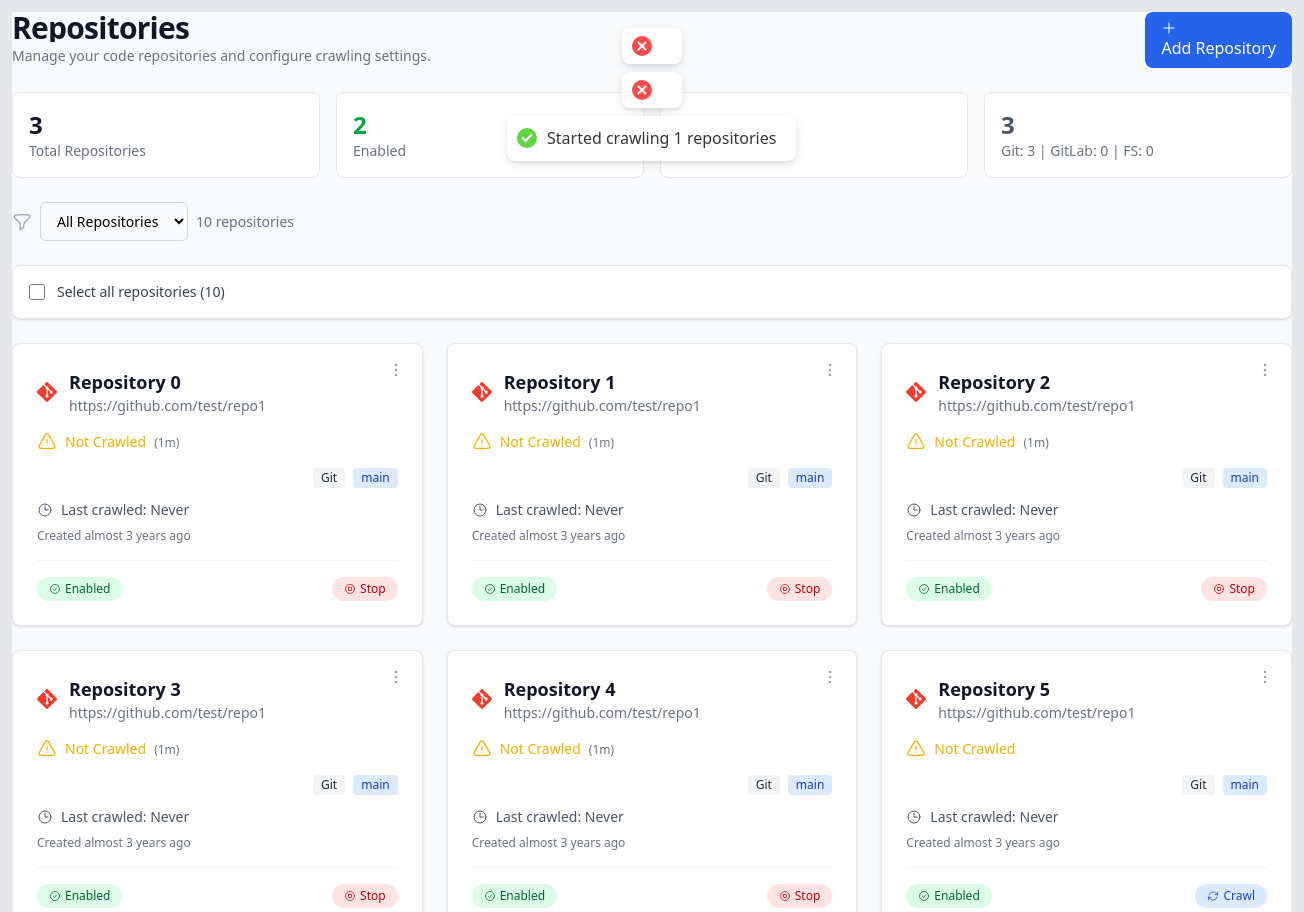
Scenario: RepositoriesPage - Crawl Prevention › Performance and Edge Cases › should handle large numbers of repositories efficiently
Expected: the heading "Repository 0" is shown, [69,370,181,394]
Note: Test that bulk crawl functionality works with multiple repositories
Click the checkbox at (37,292), box [29,284,45,300]
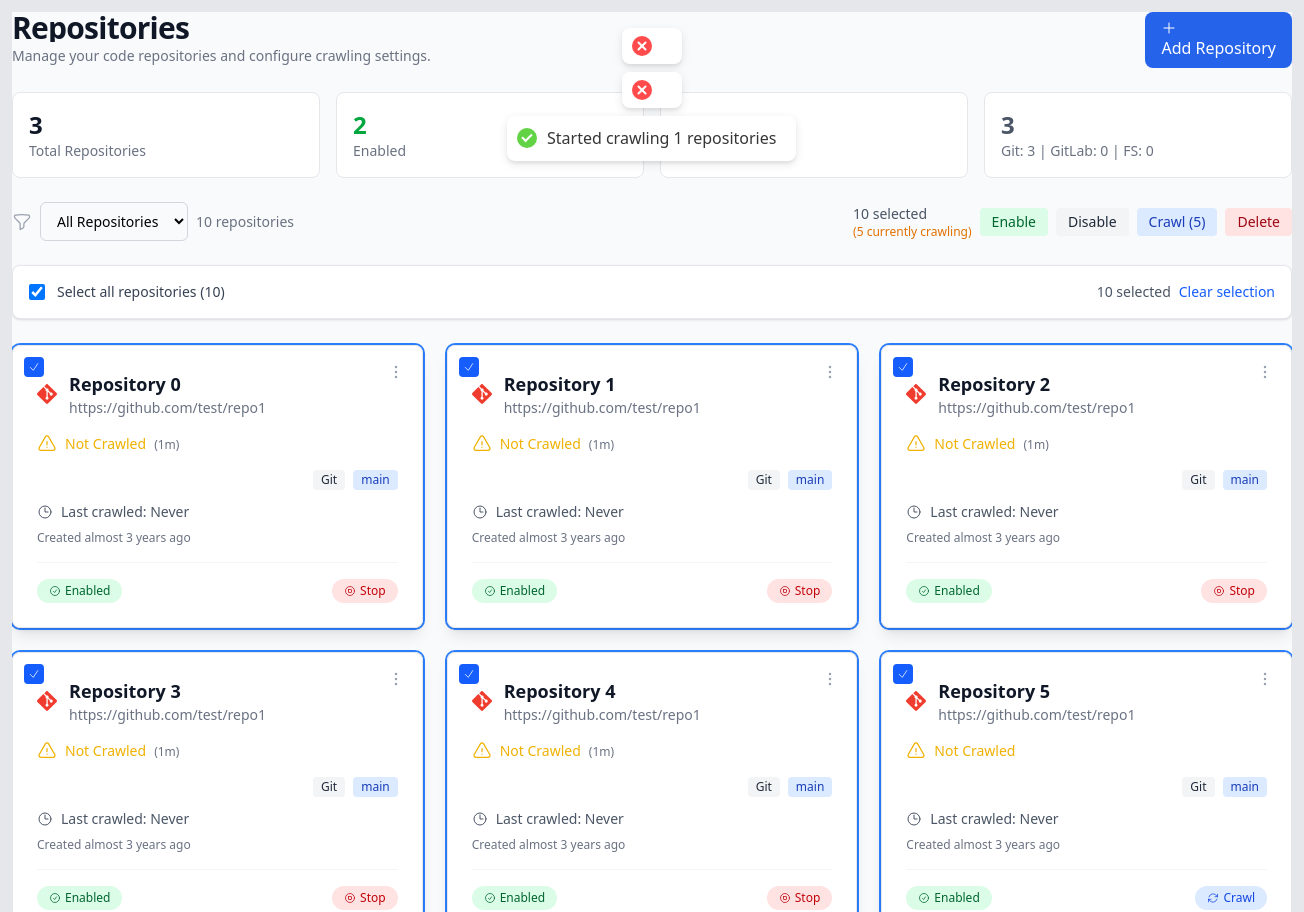
Expected: the button with test id "bulk-crawl-button" is enabled, [1136,208,1217,236]
